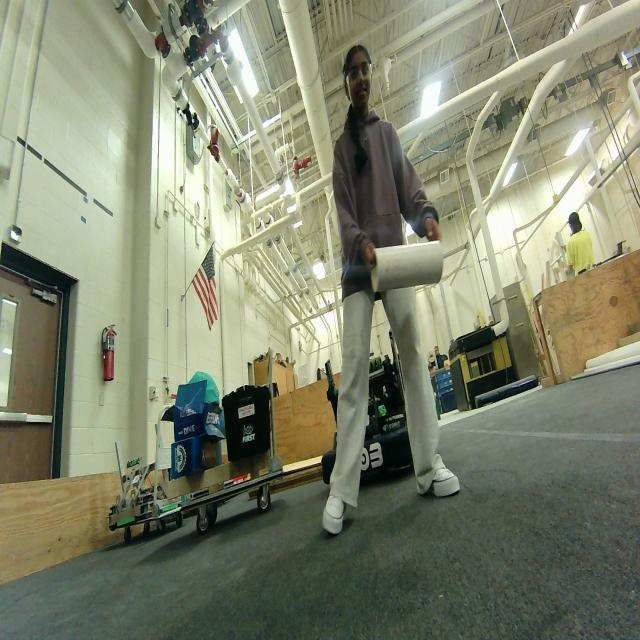coral: (378, 243, 449, 290)
